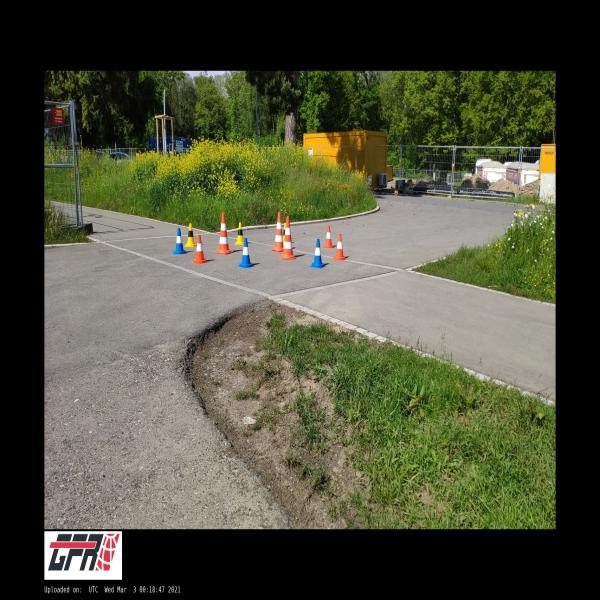blue_cone: (310, 239, 325, 268), (239, 238, 253, 268), (173, 228, 186, 254)
large_orange_cone: (215, 213, 233, 254), (280, 216, 296, 260), (271, 212, 283, 252)
orange_cone: (192, 235, 207, 263), (334, 234, 346, 260), (324, 226, 334, 248)
yellow_cone: (186, 223, 196, 247), (234, 222, 244, 244), (283, 223, 286, 244)
